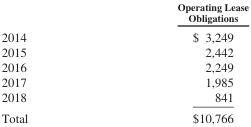table: (0, 1, 248, 124)
table column: (101, 1, 248, 124), (0, 1, 101, 124)
table column header: (0, 1, 248, 26)
table row: (0, 1, 248, 26), (0, 26, 248, 44), (0, 89, 248, 107), (0, 107, 248, 124), (0, 44, 248, 59), (0, 59, 248, 74), (0, 74, 248, 89)
